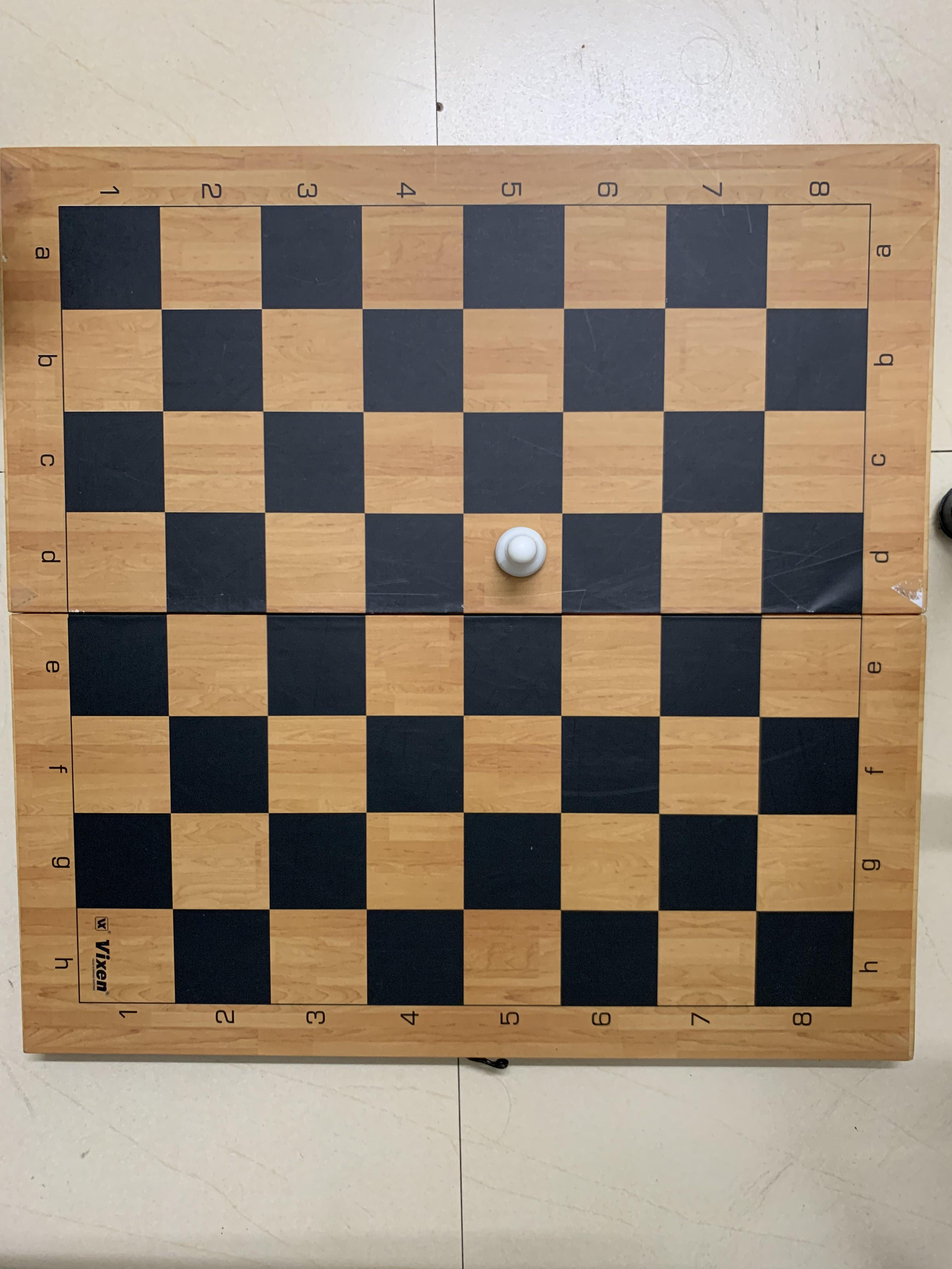white_pawn: (465, 513, 560, 608)
